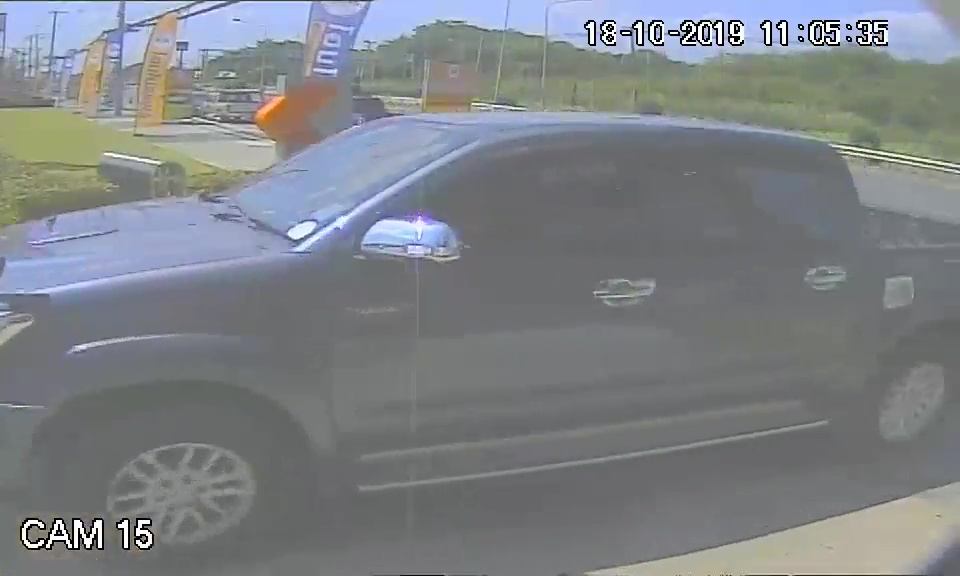pickup: (8, 109, 958, 532)
